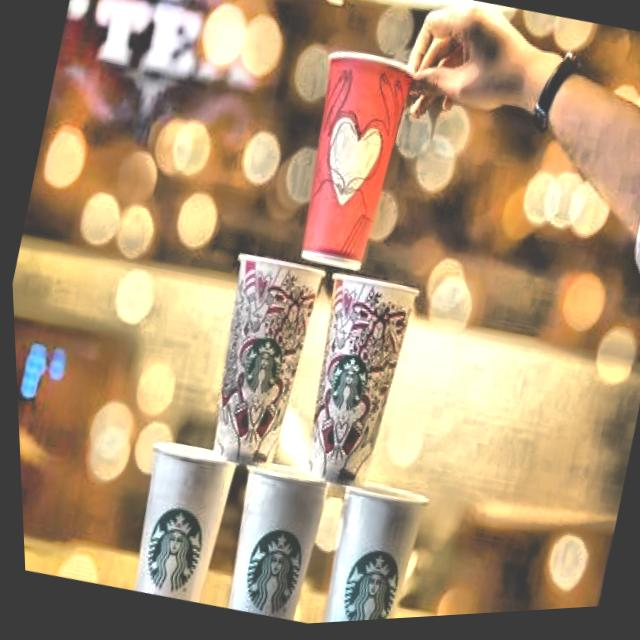Cup: (267, 36, 441, 288), (173, 243, 325, 486), (271, 258, 419, 501), (104, 427, 243, 612), (295, 455, 432, 627), (201, 451, 333, 629)
